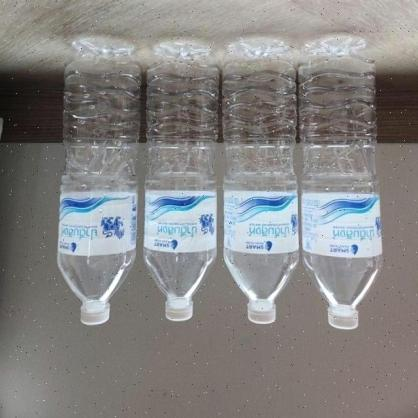bottle: (299, 32, 384, 329), (56, 38, 142, 326), (221, 36, 300, 324), (145, 38, 219, 324)
cap: (327, 307, 361, 328), (247, 302, 279, 324), (164, 299, 196, 321), (79, 303, 112, 324)
label: (302, 185, 383, 258), (58, 186, 137, 252), (224, 184, 296, 254), (147, 186, 216, 251)
